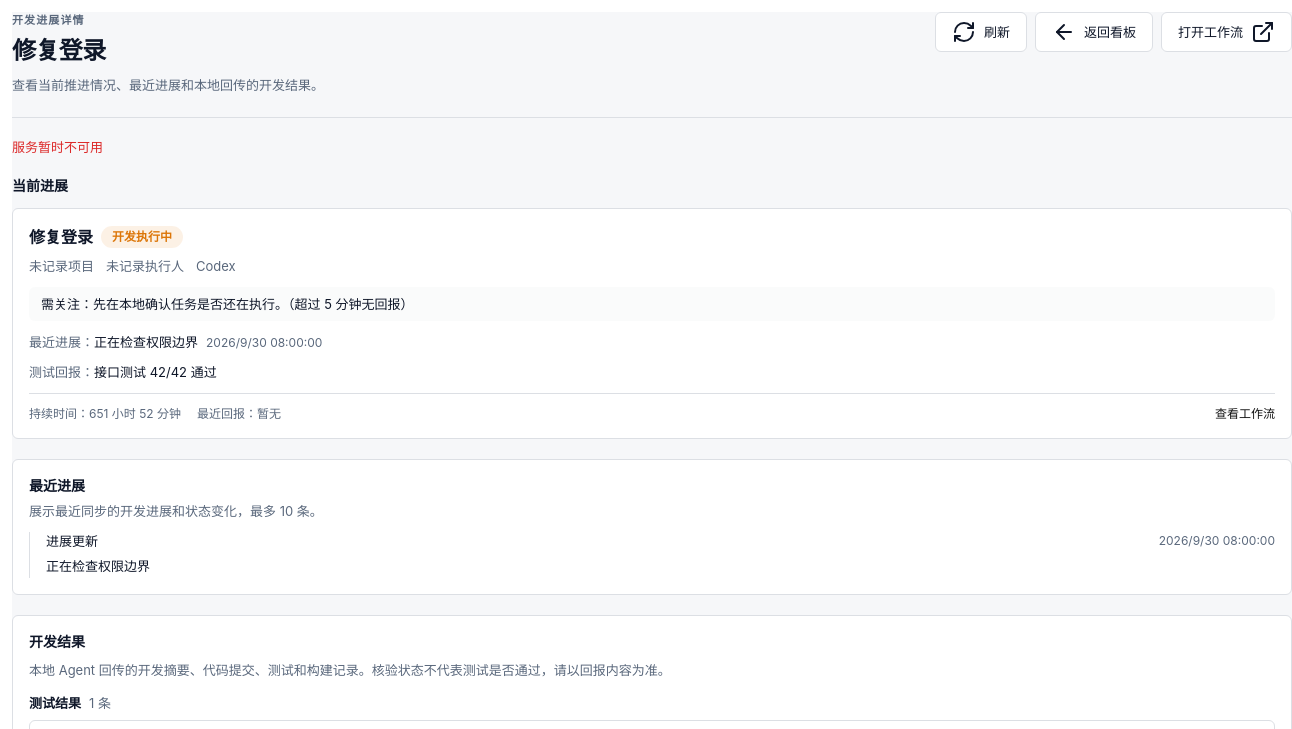
详情静默刷新失败保留已有进展和开发结果，并可主动刷新恢复
Check: the message "服务暂时不可用" is shown, box [12,138,103,154]
Check: the element named "最近进展" shows "正在检查权限边界", box [46,558,150,574]
Click the button "刷新".
click(981, 32)  # box [935,12,1027,52]
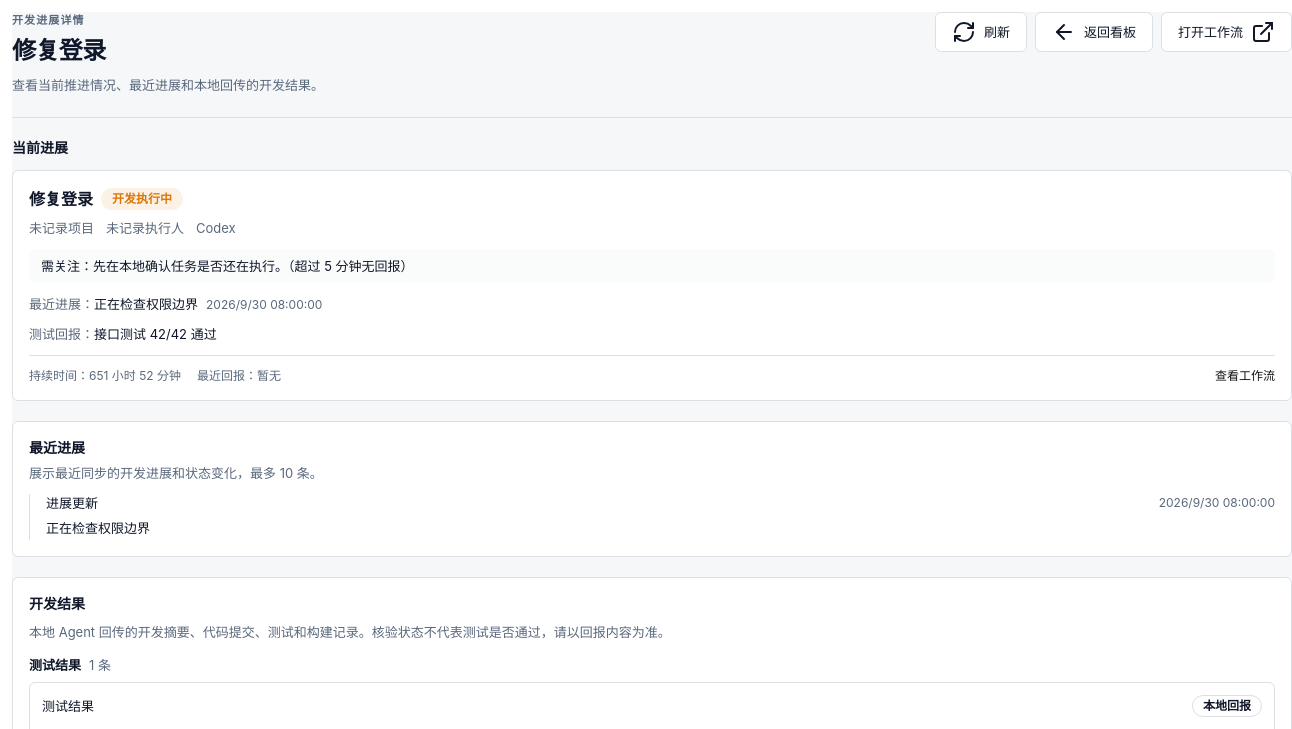
Check: the message "服务暂时不可用" is gone
